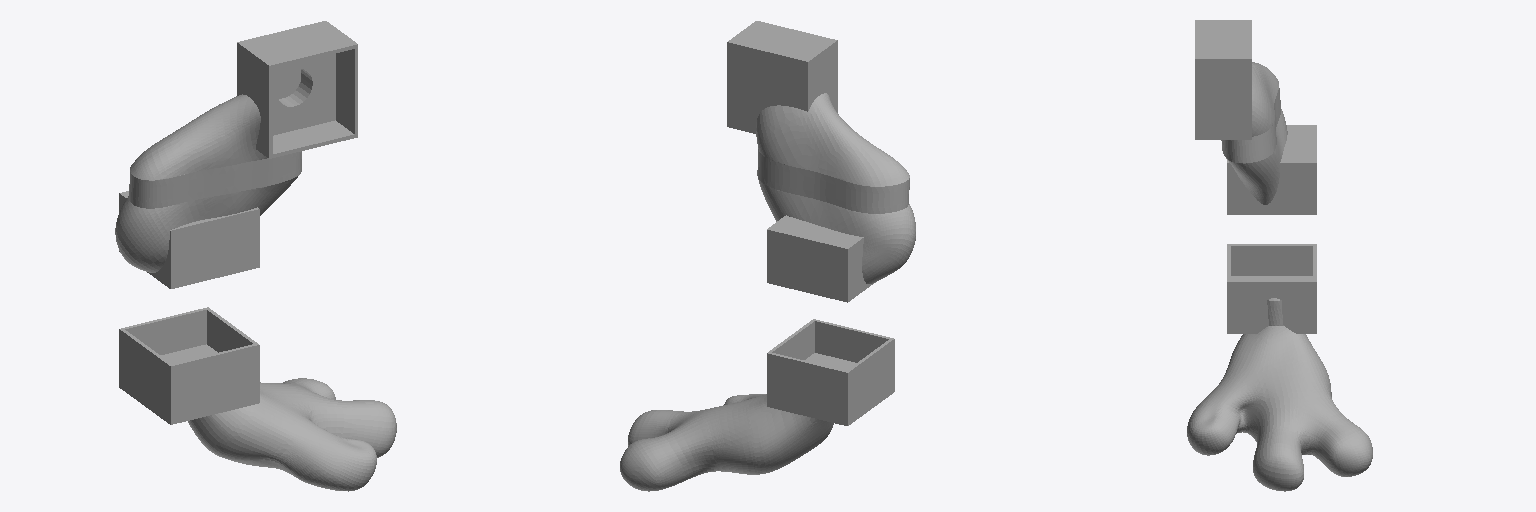
robot.urdf — FrogBot3_top-FrogBot3-x-3_bottom-FrogBot3-x-3:
<?xml version="1.0" ?>
<robot name="FrogBot3_top-FrogBot3-x-3_bottom-FrogBot3-x-3">

<material name="pla_5_percent_infill">
  <color rgba="0.700 0.700 0.700 1.000"/>
</material>

<link name="base_link">
  <inertial>
    <origin xyz="0 0 0" rpy="0 0 0"/>
    <mass value="1.5419899792307459"/>
    <inertia ixx="0.0054836076661745285" iyy="0.013703915460827342" izz="0.013742849788882953" ixy="5.961000823851627e-05" iyz="4.9944941207841843e-05" ixz="-0.0023657822822012154"/>
  </inertial>
  <visual>
    <origin xyz="0 0 0" rpy="0 0 0"/>
    <geometry>
      <mesh filename="simple_meshes/base_link.stl" scale="0.001 0.001 0.001"/>
    </geometry>
    <material name="pla_5_percent_infill"/>
  </visual>
  <collision>
    <origin xyz="0 0 0" rpy="0 0 0"/>
    <geometry>
      <mesh filename="simple_meshes/base_link.stl" scale="0.001 0.001 0.001"/>
    </geometry>
  </collision>
</link>

<link name="body_1_0_1">
  <inertial>
    <origin xyz="-0.065859 -0.113451 -0.001976" rpy="0 0 0"/>
    <mass value="0.042625750875155084"/>
    <inertia ixx="3.4641224399791035e-05" iyy="5.021167623384709e-05" izz="2.6491097934652156e-05" ixy="3.2619732955714792e-06" iyz="3.7394375823213426e-06" ixz="-1.4513714459056026e-05"/>
  </inertial>
  <visual>
    <origin xyz="-0.065859 -0.113451 -0.001976" rpy="0 0 0"/>
    <geometry>
      <mesh filename="simple_meshes/body_1_0_1.stl" scale="0.001 0.001 0.001"/>
    </geometry>
    <material name="pla_5_percent_infill"/>
  </visual>
  <collision>
    <origin xyz="-0.065859 -0.113451 -0.001976" rpy="0 0 0"/>
    <geometry>
      <mesh filename="simple_meshes/body_1_0_1.stl" scale="0.001 0.001 0.001"/>
    </geometry>
  </collision>
</link>

<link name="body_1_1_1">
  <inertial>
    <origin xyz="0.083929 -0.113451 -0.010696" rpy="0 0 0"/>
    <mass value="0.06452397709839196"/>
    <inertia ixx="5.155518546908627e-05" iyy="8.951750433276446e-05" izz="5.535845111843615e-05" ixy="6.458361727537014e-06" iyz="9.573194863686085e-06" ixz="-2.5043685811191078e-05"/>
  </inertial>
  <visual>
    <origin xyz="0.083929 -0.113451 -0.010696" rpy="0 0 0"/>
    <geometry>
      <mesh filename="simple_meshes/body_1_1_1.stl" scale="0.001 0.001 0.001"/>
    </geometry>
    <material name="pla_5_percent_infill"/>
  </visual>
  <collision>
    <origin xyz="0.083929 -0.113451 -0.010696" rpy="0 0 0"/>
    <geometry>
      <mesh filename="simple_meshes/body_1_1_1.stl" scale="0.001 0.001 0.001"/>
    </geometry>
  </collision>
</link>

<link name="body_1_2_1">
  <inertial>
    <origin xyz="-0.060736 0.113451 -0.005366" rpy="0 0 0"/>
    <mass value="0.04466471564648261"/>
    <inertia ixx="3.844714817747186e-05" iyy="5.306549351495947e-05" izz="2.6484493464122875e-05" ixy="-3.4974498559058194e-06" iyz="-5.419080466504252e-06" ixz="-1.529522760582896e-05"/>
  </inertial>
  <visual>
    <origin xyz="-0.060736 0.113451 -0.005366" rpy="0 0 0"/>
    <geometry>
      <mesh filename="simple_meshes/body_1_2_1.stl" scale="0.001 0.001 0.001"/>
    </geometry>
    <material name="pla_5_percent_infill"/>
  </visual>
  <collision>
    <origin xyz="-0.060736 0.113451 -0.005366" rpy="0 0 0"/>
    <geometry>
      <mesh filename="simple_meshes/body_1_2_1.stl" scale="0.001 0.001 0.001"/>
    </geometry>
  </collision>
</link>

<link name="body_1_3_1">
  <inertial>
    <origin xyz="0.093982 0.113451 -0.005431" rpy="0 0 0"/>
    <mass value="0.06510976023996005"/>
    <inertia ixx="4.713460964364275e-05" iyy="7.73154216382058e-05" izz="4.876239424349369e-05" ixy="-4.687275193743625e-06" iyz="-8.383384886503193e-06" ixz="-1.836097457693915e-05"/>
  </inertial>
  <visual>
    <origin xyz="0.093982 0.113451 -0.005431" rpy="0 0 0"/>
    <geometry>
      <mesh filename="simple_meshes/body_1_3_1.stl" scale="0.001 0.001 0.001"/>
    </geometry>
    <material name="pla_5_percent_infill"/>
  </visual>
  <collision>
    <origin xyz="0.093982 0.113451 -0.005431" rpy="0 0 0"/>
    <geometry>
      <mesh filename="simple_meshes/body_1_3_1.stl" scale="0.001 0.001 0.001"/>
    </geometry>
  </collision>
</link>

<link name="body_2_0_1">
  <inertial>
    <origin xyz="-0.026166 -0.164707 0.097895" rpy="0 0 0"/>
    <mass value="0.08399648447663655"/>
    <inertia ixx="7.263491335863376e-05" iyy="0.00019832664381089085" izz="0.00019801361775360644" ixy="4.3467019951357565e-06" iyz="-3.485235118188927e-06" ixz="6.747762010143529e-05"/>
  </inertial>
  <visual>
    <origin xyz="-0.026166 -0.164707 0.097895" rpy="0 0 0"/>
    <geometry>
      <mesh filename="simple_meshes/body_2_0_1.stl" scale="0.001 0.001 0.001"/>
    </geometry>
    <material name="pla_5_percent_infill"/>
  </visual>
  <collision>
    <origin xyz="-0.026166 -0.164707 0.097895" rpy="0 0 0"/>
    <geometry>
      <mesh filename="simple_meshes/body_2_0_1.stl" scale="0.001 0.001 0.001"/>
    </geometry>
  </collision>
</link>

<link name="body_2_1_1">
  <inertial>
    <origin xyz="0.127747 -0.174737 0.097895" rpy="0 0 0"/>
    <mass value="0.07285009259021573"/>
    <inertia ixx="5.193389730767401e-05" iyy="9.887195755299734e-05" izz="9.986799282611907e-05" ixy="-9.324094815585729e-06" iyz="3.306540004667513e-06" ixz="3.4712907666732684e-05"/>
  </inertial>
  <visual>
    <origin xyz="0.127747 -0.174737 0.097895" rpy="0 0 0"/>
    <geometry>
      <mesh filename="simple_meshes/body_2_1_1.stl" scale="0.001 0.001 0.001"/>
    </geometry>
    <material name="pla_5_percent_infill"/>
  </visual>
  <collision>
    <origin xyz="0.127747 -0.174737 0.097895" rpy="0 0 0"/>
    <geometry>
      <mesh filename="simple_meshes/body_2_1_1.stl" scale="0.001 0.001 0.001"/>
    </geometry>
  </collision>
</link>

<link name="body_2_2_1">
  <inertial>
    <origin xyz="-0.021708 0.167525 0.097895" rpy="0 0 0"/>
    <mass value="0.08411063140421357"/>
    <inertia ixx="7.1988506724973e-05" iyy="0.00019592412323586085" izz="0.00019558216591522137" ixy="1.8047557980023065e-06" iyz="-1.1835661260554096e-06" ixz="6.643863381459373e-05"/>
  </inertial>
  <visual>
    <origin xyz="-0.021708 0.167525 0.097895" rpy="0 0 0"/>
    <geometry>
      <mesh filename="simple_meshes/body_2_2_1.stl" scale="0.001 0.001 0.001"/>
    </geometry>
    <material name="pla_5_percent_infill"/>
  </visual>
  <collision>
    <origin xyz="-0.021708 0.167525 0.097895" rpy="0 0 0"/>
    <geometry>
      <mesh filename="simple_meshes/body_2_2_1.stl" scale="0.001 0.001 0.001"/>
    </geometry>
  </collision>
</link>

<link name="body_2_3_1">
  <inertial>
    <origin xyz="0.128136 0.172985 0.097895" rpy="0 0 0"/>
    <mass value="0.07039286684904554"/>
    <inertia ixx="5.404241570171071e-05" iyy="9.308995673441931e-05" izz="9.872996845404882e-05" ixy="7.5303742060890255e-06" iyz="-4.414948381533789e-06" ixz="3.195672940100214e-05"/>
  </inertial>
  <visual>
    <origin xyz="0.128136 0.172985 0.097895" rpy="0 0 0"/>
    <geometry>
      <mesh filename="simple_meshes/body_2_3_1.stl" scale="0.001 0.001 0.001"/>
    </geometry>
    <material name="pla_5_percent_infill"/>
  </visual>
  <collision>
    <origin xyz="0.128136 0.172985 0.097895" rpy="0 0 0"/>
    <geometry>
      <mesh filename="simple_meshes/body_2_3_1.stl" scale="0.001 0.001 0.001"/>
    </geometry>
  </collision>
</link>

<joint name="joint_1_0" type="revolute">
  <origin xyz="0.065859 0.113451 0.001976" rpy="0 0 0"/>
  <parent link="base_link"/>
  <child link="body_1_0_1"/>
  <axis xyz="1.0 0.0 0.0"/>
  <limit upper="1.2" lower="-1.2" effort="3.8" velocity="5.4"/>
</joint>
<transmission name="joint_1_0_tran">
  <type>transmission_interface/SimpleTransmission</type>
  <joint name="joint_1_0">
    <hardwareInterface>PositionJointInterface</hardwareInterface>
  </joint>
  <actuator name="joint_1_0_actr">
    <hardwareInterface>PositionJointInterface</hardwareInterface>
    <mechanicalReduction>1</mechanicalReduction>
  </actuator>
</transmission>

<joint name="joint_1_1" type="revolute">
  <origin xyz="-0.083929 0.113451 0.010696" rpy="0 0 0"/>
  <parent link="base_link"/>
  <child link="body_1_1_1"/>
  <axis xyz="1.0 0.0 0.0"/>
  <limit upper="1.2" lower="-1.2" effort="3.8" velocity="5.4"/>
</joint>
<transmission name="joint_1_1_tran">
  <type>transmission_interface/SimpleTransmission</type>
  <joint name="joint_1_1">
    <hardwareInterface>PositionJointInterface</hardwareInterface>
  </joint>
  <actuator name="joint_1_1_actr">
    <hardwareInterface>PositionJointInterface</hardwareInterface>
    <mechanicalReduction>1</mechanicalReduction>
  </actuator>
</transmission>

<joint name="joint_1_2" type="revolute">
  <origin xyz="0.060736 -0.113451 0.005366" rpy="0 0 0"/>
  <parent link="base_link"/>
  <child link="body_1_2_1"/>
  <axis xyz="1.0 0.0 0.0"/>
  <limit upper="1.2" lower="-1.2" effort="3.8" velocity="5.4"/>
</joint>
<transmission name="joint_1_2_tran">
  <type>transmission_interface/SimpleTransmission</type>
  <joint name="joint_1_2">
    <hardwareInterface>PositionJointInterface</hardwareInterface>
  </joint>
  <actuator name="joint_1_2_actr">
    <hardwareInterface>PositionJointInterface</hardwareInterface>
    <mechanicalReduction>1</mechanicalReduction>
  </actuator>
</transmission>

<joint name="joint_1_3" type="revolute">
  <origin xyz="-0.093982 -0.113451 0.005431" rpy="0 0 0"/>
  <parent link="base_link"/>
  <child link="body_1_3_1"/>
  <axis xyz="1.0 0.0 0.0"/>
  <limit upper="1.2" lower="-1.2" effort="3.8" velocity="5.4"/>
</joint>
<transmission name="joint_1_3_tran">
  <type>transmission_interface/SimpleTransmission</type>
  <joint name="joint_1_3">
    <hardwareInterface>PositionJointInterface</hardwareInterface>
  </joint>
  <actuator name="joint_1_3_actr">
    <hardwareInterface>PositionJointInterface</hardwareInterface>
    <mechanicalReduction>1</mechanicalReduction>
  </actuator>
</transmission>

<joint name="joint_2_0" type="revolute">
  <origin xyz="-0.039693 0.051256 -0.099871" rpy="0 0 0"/>
  <parent link="body_1_0_1"/>
  <child link="body_2_0_1"/>
  <axis xyz="1.0 0.0 0.0"/>
  <limit upper="1.2" lower="-1.2" effort="3.8" velocity="5.4"/>
</joint>
<transmission name="joint_2_0_tran">
  <type>transmission_interface/SimpleTransmission</type>
  <joint name="joint_2_0">
    <hardwareInterface>PositionJointInterface</hardwareInterface>
  </joint>
  <actuator name="joint_2_0_actr">
    <hardwareInterface>PositionJointInterface</hardwareInterface>
    <mechanicalReduction>1</mechanicalReduction>
  </actuator>
</transmission>

<joint name="joint_2_1" type="revolute">
  <origin xyz="-0.043818 0.061286 -0.108591" rpy="0 0 0"/>
  <parent link="body_1_1_1"/>
  <child link="body_2_1_1"/>
  <axis xyz="1.0 0.0 0.0"/>
  <limit upper="1.2" lower="-1.2" effort="3.8" velocity="5.4"/>
</joint>
<transmission name="joint_2_1_tran">
  <type>transmission_interface/SimpleTransmission</type>
  <joint name="joint_2_1">
    <hardwareInterface>PositionJointInterface</hardwareInterface>
  </joint>
  <actuator name="joint_2_1_actr">
    <hardwareInterface>PositionJointInterface</hardwareInterface>
    <mechanicalReduction>1</mechanicalReduction>
  </actuator>
</transmission>

<joint name="joint_2_2" type="revolute">
  <origin xyz="-0.039028 -0.054074 -0.103261" rpy="0 0 0"/>
  <parent link="body_1_2_1"/>
  <child link="body_2_2_1"/>
  <axis xyz="1.0 0.0 0.0"/>
  <limit upper="1.2" lower="-1.2" effort="3.8" velocity="5.4"/>
</joint>
<transmission name="joint_2_2_tran">
  <type>transmission_interface/SimpleTransmission</type>
  <joint name="joint_2_2">
    <hardwareInterface>PositionJointInterface</hardwareInterface>
  </joint>
  <actuator name="joint_2_2_actr">
    <hardwareInterface>PositionJointInterface</hardwareInterface>
    <mechanicalReduction>1</mechanicalReduction>
  </actuator>
</transmission>

<joint name="joint_2_3" type="revolute">
  <origin xyz="-0.034154 -0.059534 -0.103326" rpy="0 0 0"/>
  <parent link="body_1_3_1"/>
  <child link="body_2_3_1"/>
  <axis xyz="1.0 0.0 0.0"/>
  <limit upper="1.2" lower="-1.2" effort="3.8" velocity="5.4"/>
</joint>
<transmission name="joint_2_3_tran">
  <type>transmission_interface/SimpleTransmission</type>
  <joint name="joint_2_3">
    <hardwareInterface>PositionJointInterface</hardwareInterface>
  </joint>
  <actuator name="joint_2_3_actr">
    <hardwareInterface>PositionJointInterface</hardwareInterface>
    <mechanicalReduction>1</mechanicalReduction>
  </actuator>
</transmission>

</robot>

--- Render facts (derived) ---
The picture shows the robot from 3 angles, left to right: view 1: azimuth 30°, elevation 25°; view 2: azimuth 150°, elevation 25°; view 3: azimuth 270°, elevation 25°; orthographic projection.
Model FrogBot3_top-FrogBot3-x-3_bottom-FrogBot3-x-3 with 9 links and 8 joints (8 revolute), rooted at base_link, posed all joints at 0.
Links seen in each view (by area): view 1: body_1_1_1, body_2_1_1; view 2: body_1_1_1, body_2_1_1; view 3: body_2_1_1, body_1_1_1.
Link boxes in pixels (x1=…): body_1_1_1: x1=115, y1=21, x2=357, y2=288; body_2_1_1: x1=119, y1=307, x2=396, y2=491; body_1_1_1: x1=727, y1=21, x2=915, y2=302; body_2_1_1: x1=620, y1=319, x2=894, y2=491; body_2_1_1: x1=1187, y1=244, x2=1372, y2=491; body_1_1_1: x1=1195, y1=20, x2=1316, y2=214.
Bounding box of the posed robot: 0.1579 × 0.0997 × 0.2389 m (x, y, z).
2 mesh visuals loaded from 9 distinct referenced files (2 binary STL); not drawn: 7 (reference not matched to a file when rendering).